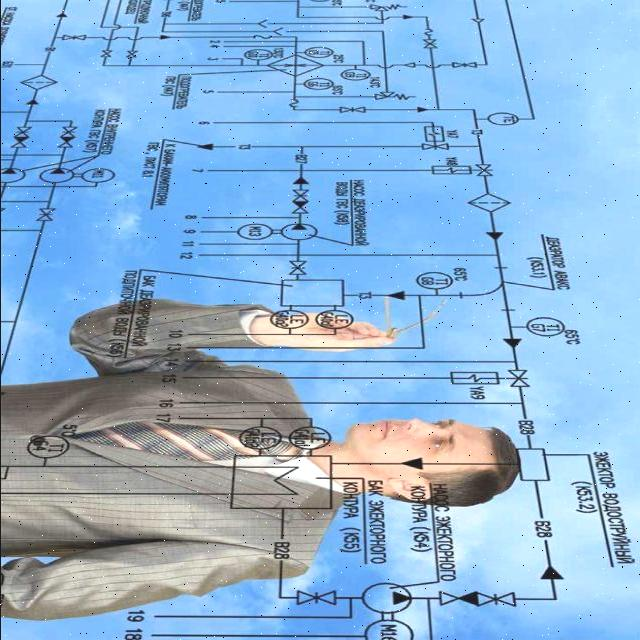Needle Valve: (472, 586, 526, 612), (293, 588, 346, 607), (24, 203, 66, 224), (508, 366, 538, 390), (282, 258, 314, 276), (471, 160, 496, 180), (337, 104, 371, 116), (418, 36, 441, 52), (282, 188, 312, 200), (418, 144, 454, 154), (52, 125, 82, 136), (448, 60, 484, 69), (56, 34, 92, 43), (6, 125, 34, 136)
